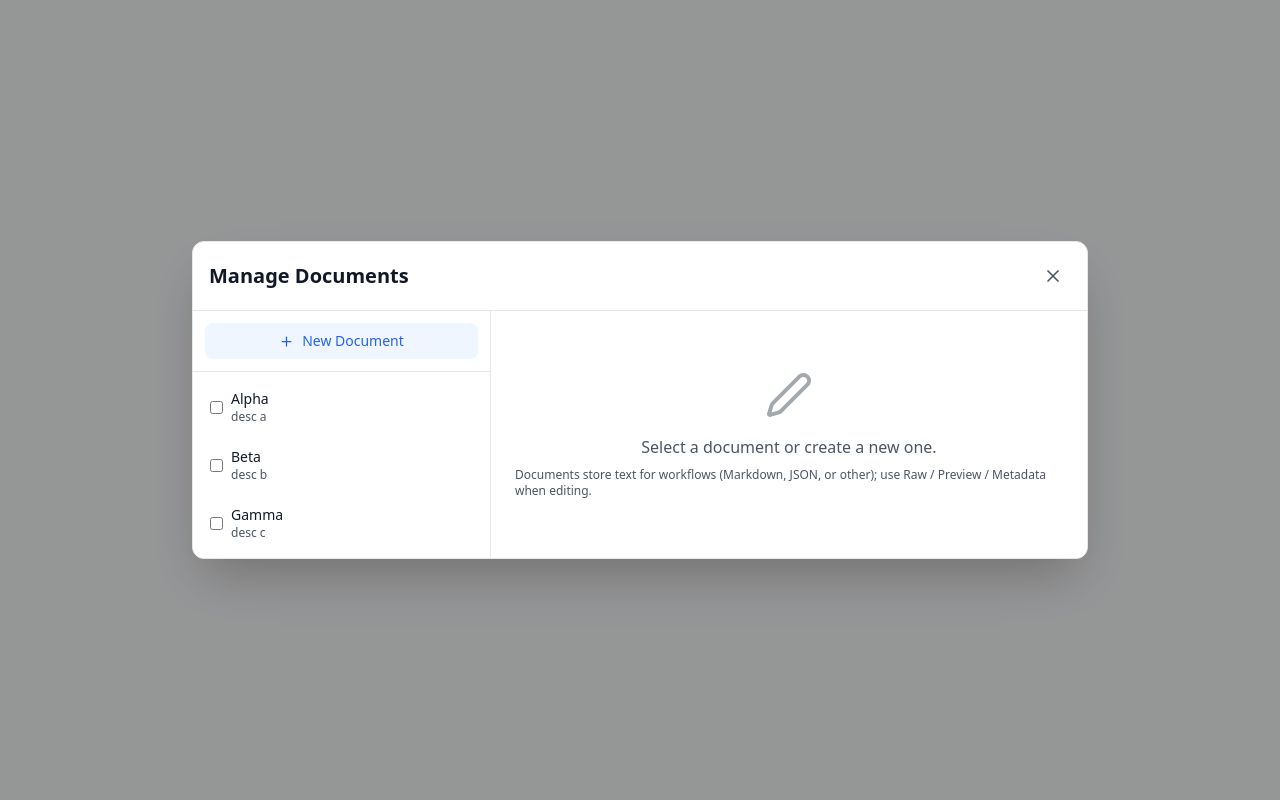
Scenario: DocumentManager › checkbox toggles selection and bulk bar appears when two are checked
Check: the text "Alpha" is shown, box [231, 389, 269, 409]
What coordinates should you click on to do the following:
click the checkbox named "select alpha"
I would click on:
 (216, 407)
Its box is [210, 400, 223, 414].
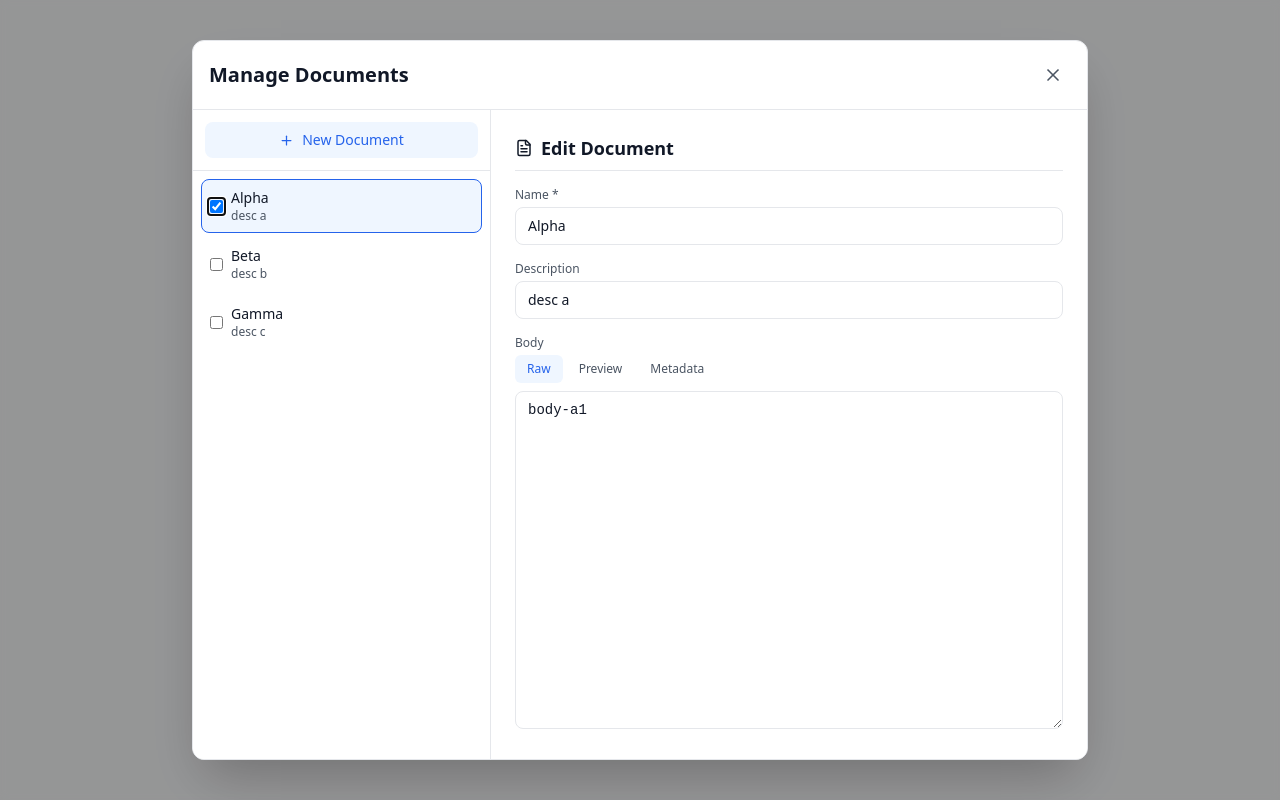
What coordinates should you click on to do the following:
click the checkbox named "select beta"
I would click on:
 (216, 264)
Its box is [210, 258, 223, 270].
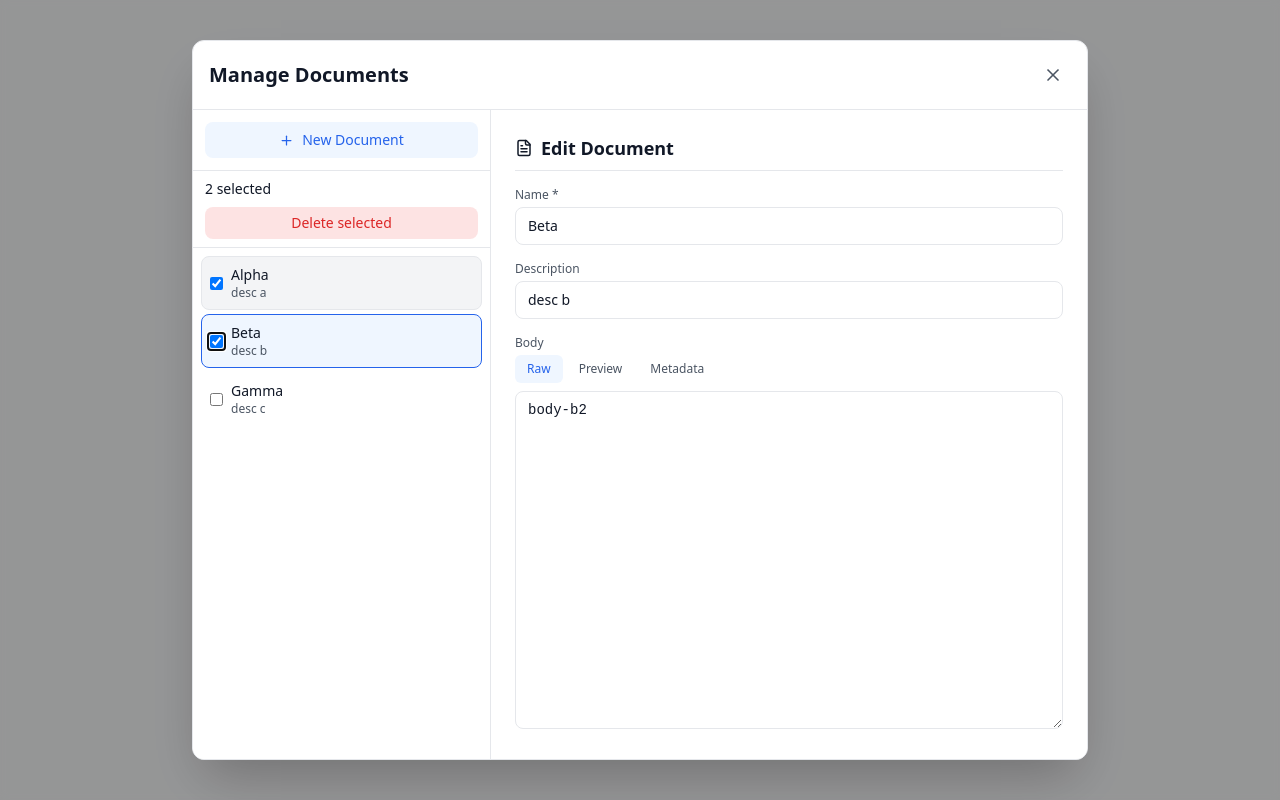
Check: the text "2 selected" is shown, box [205, 179, 271, 198]
